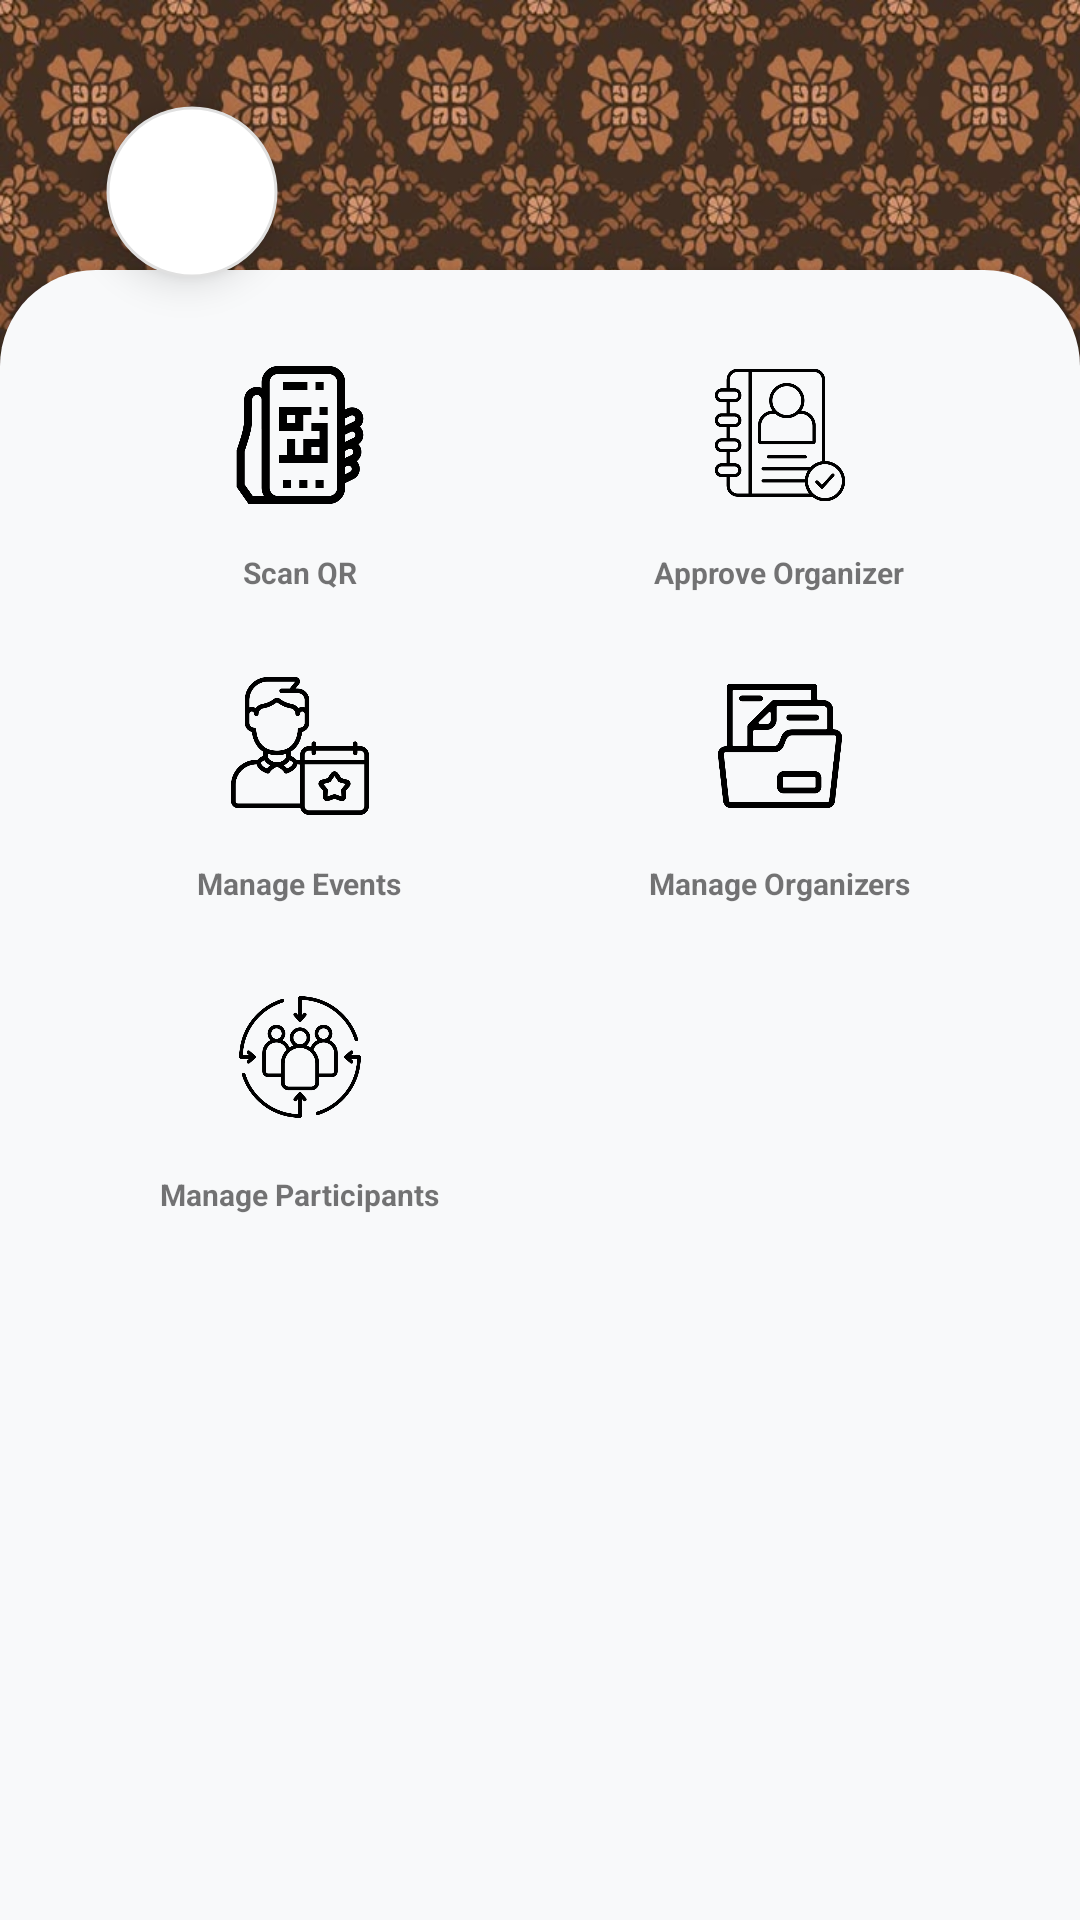

Point at icon controls on the screen. Image size 1080 × 1920, points as [x,y].
aprove organizer: [780,435]
event planner: [300,746]
qr nav: [300,435]
